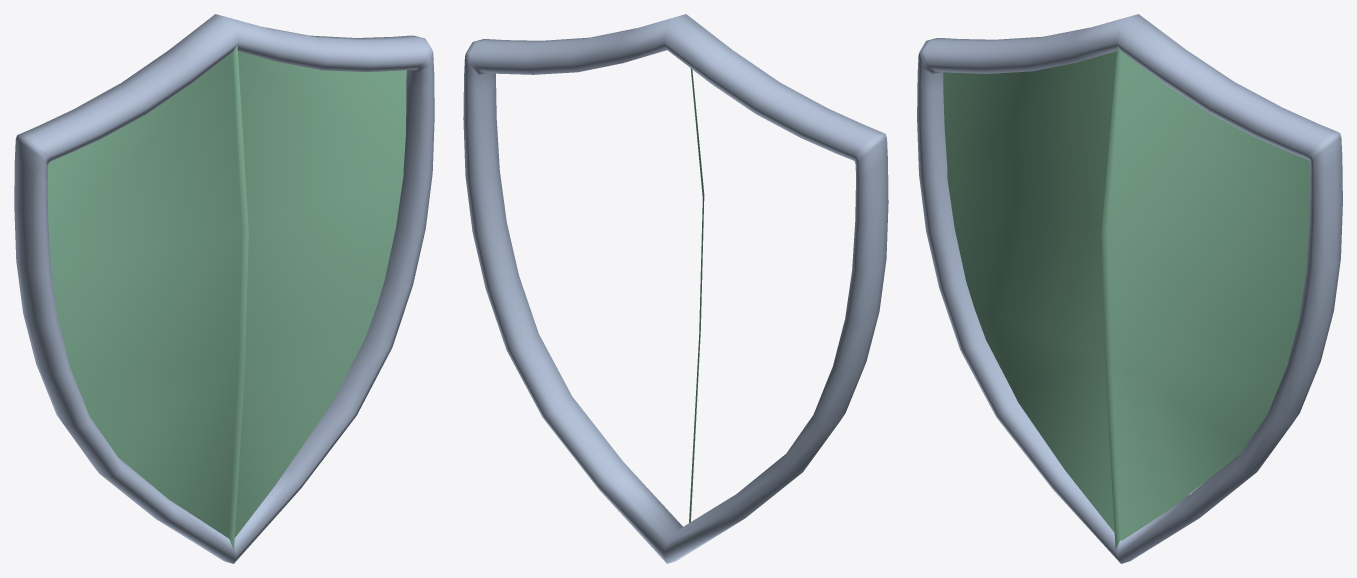
The model's file is item_shield.glb.
3 renders of one model, left to right at view 1: azimuth 30°, elevation 25°; view 2: azimuth 150°, elevation 25°; view 3: azimuth 330°, elevation 25°, orthographic.
Size of the model in its own units: 5.21 by 6.59 by 0.8857.
